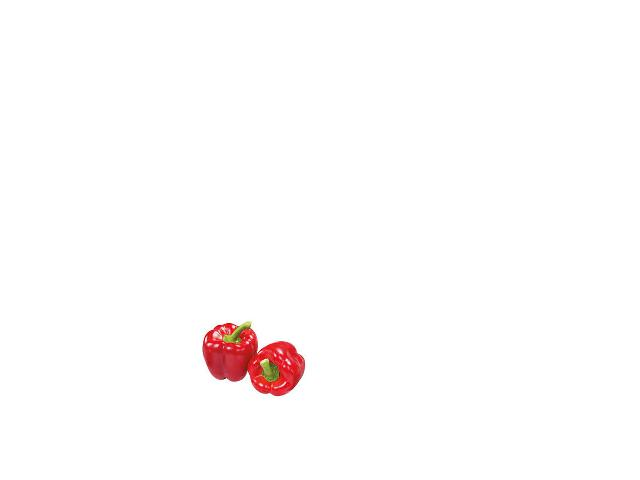bell_pepper: (200, 319, 259, 386)
